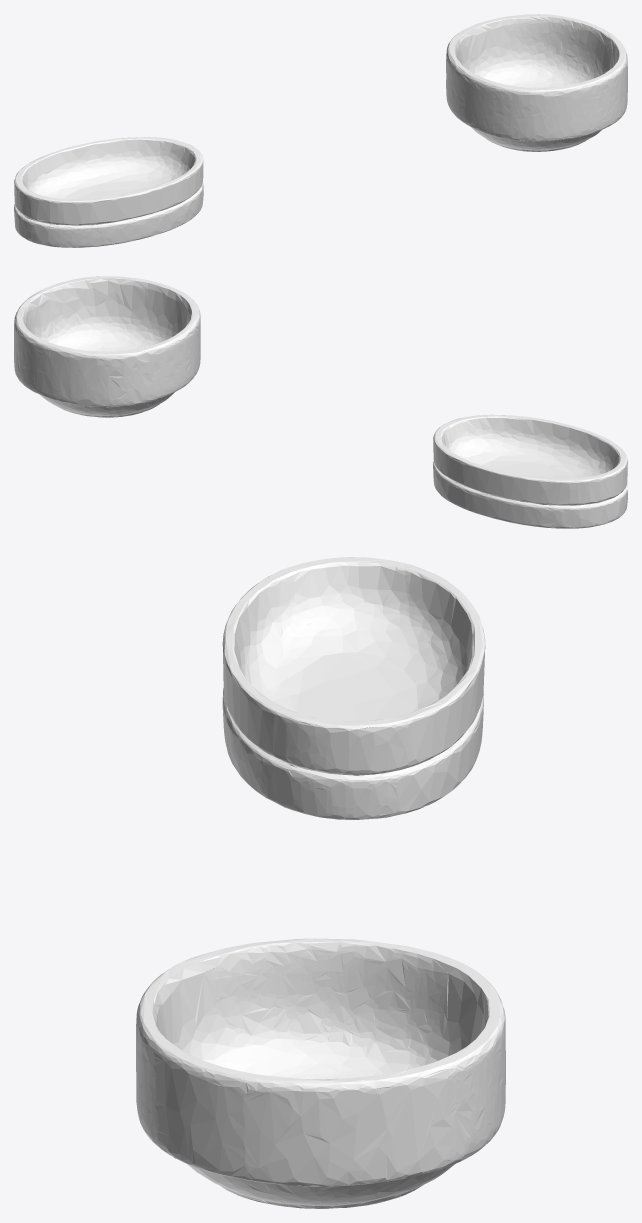
3 renders of one model, top to bottom at view 1: azimuth 30°, elevation 25°; view 2: azimuth 150°, elevation 25°; view 3: azimuth 270°, elevation 25°, orthographic. The views are drawn at different scales.
Parts seen in each view (by area): view 1: world; view 2: world; view 3: world.
Part boxes in pixels (left/top/right/bottom): world: left=14, top=14, right=627, bottom=247; world: left=14, top=276, right=627, bottom=528; world: left=136, top=557, right=505, bottom=1208.
Size of the model in its own units: 1 by 0.1229 by 0.2741.
1 material, 1 textured.
